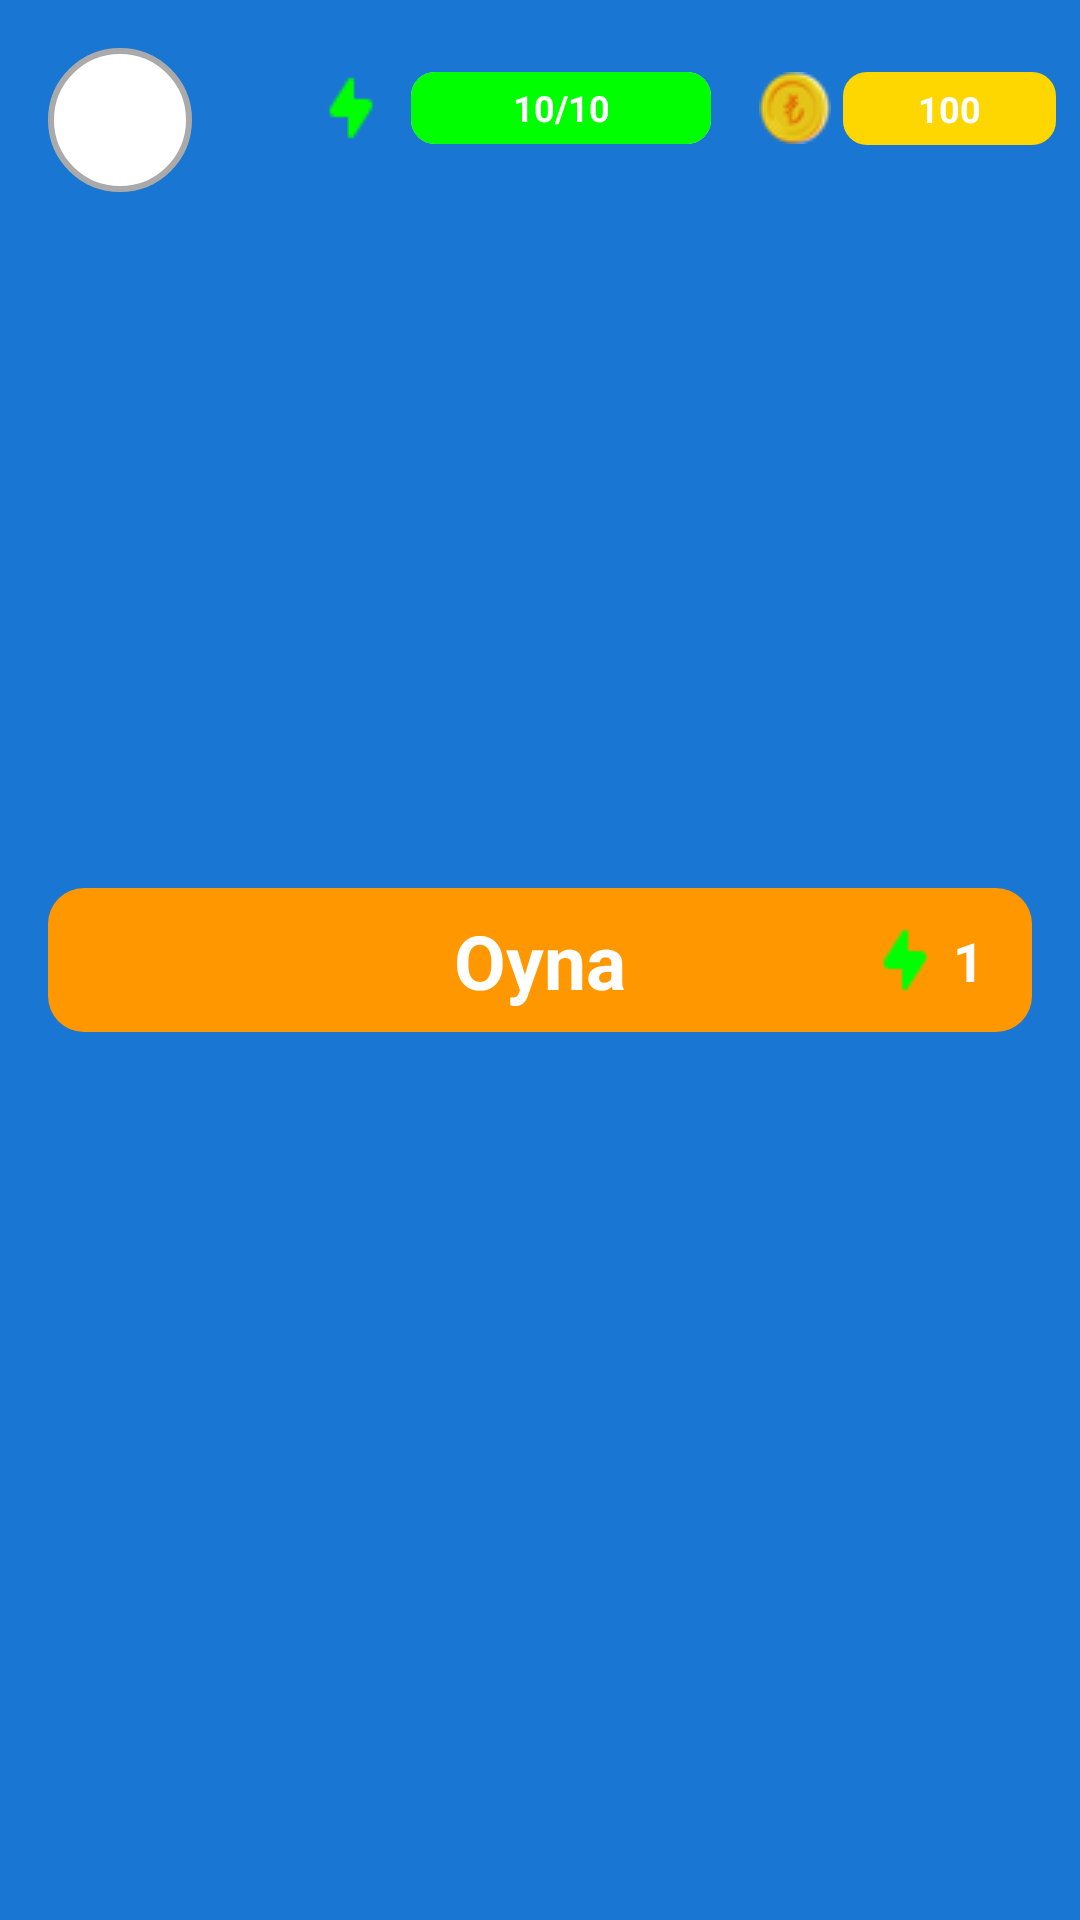

Screen size 1080 × 1920. Icon name, then its center in pixels as (x=x, y=y):
tlicon: (x=795, y=108)
